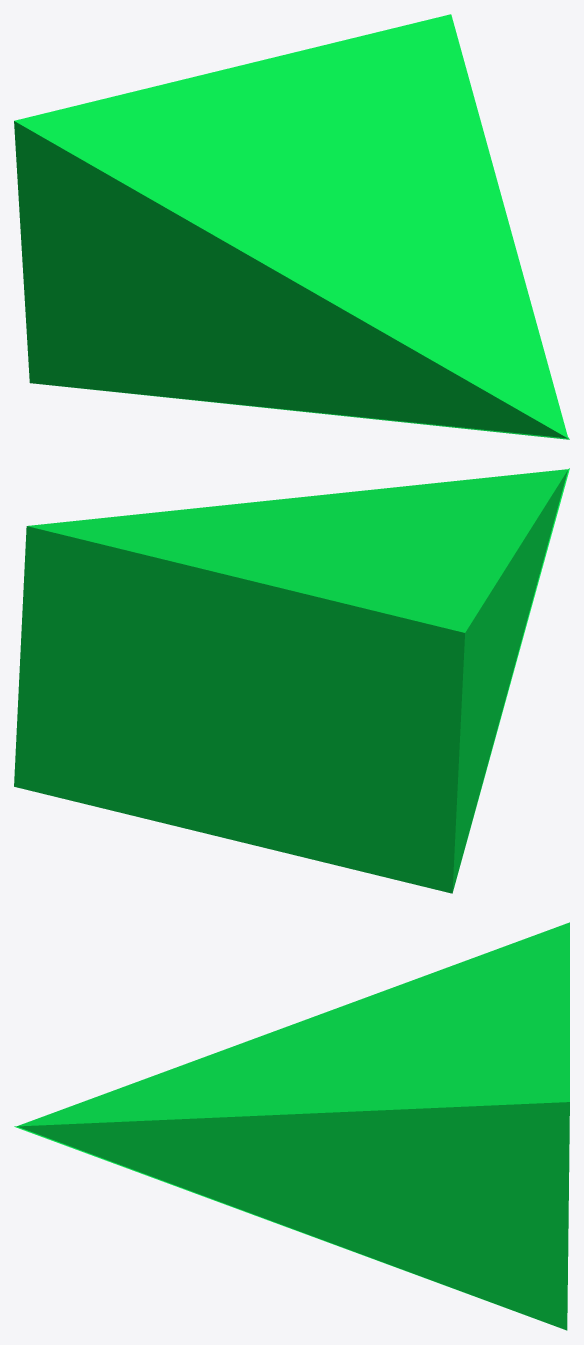
The model's file is wedge_green.gltf.
The picture shows the model from 3 angles, top to bottom: view 1: azimuth 30°, elevation 25°; view 2: azimuth 150°, elevation 25°; view 3: azimuth 270°, elevation 25°; orthographic projection. The views are drawn at different scales.
Parts seen in each view (by area): view 1: Cube; view 2: Cube; view 3: Cube.
Boxes of the visible parts, left/top/right/bottom form: Cube: left=14, top=14, right=569, bottom=439; Cube: left=14, top=468, right=569, bottom=893; Cube: left=14, top=922, right=569, bottom=1330.
Bounding box in the file's own units: 2.03 × 1.14 × 2.57.
